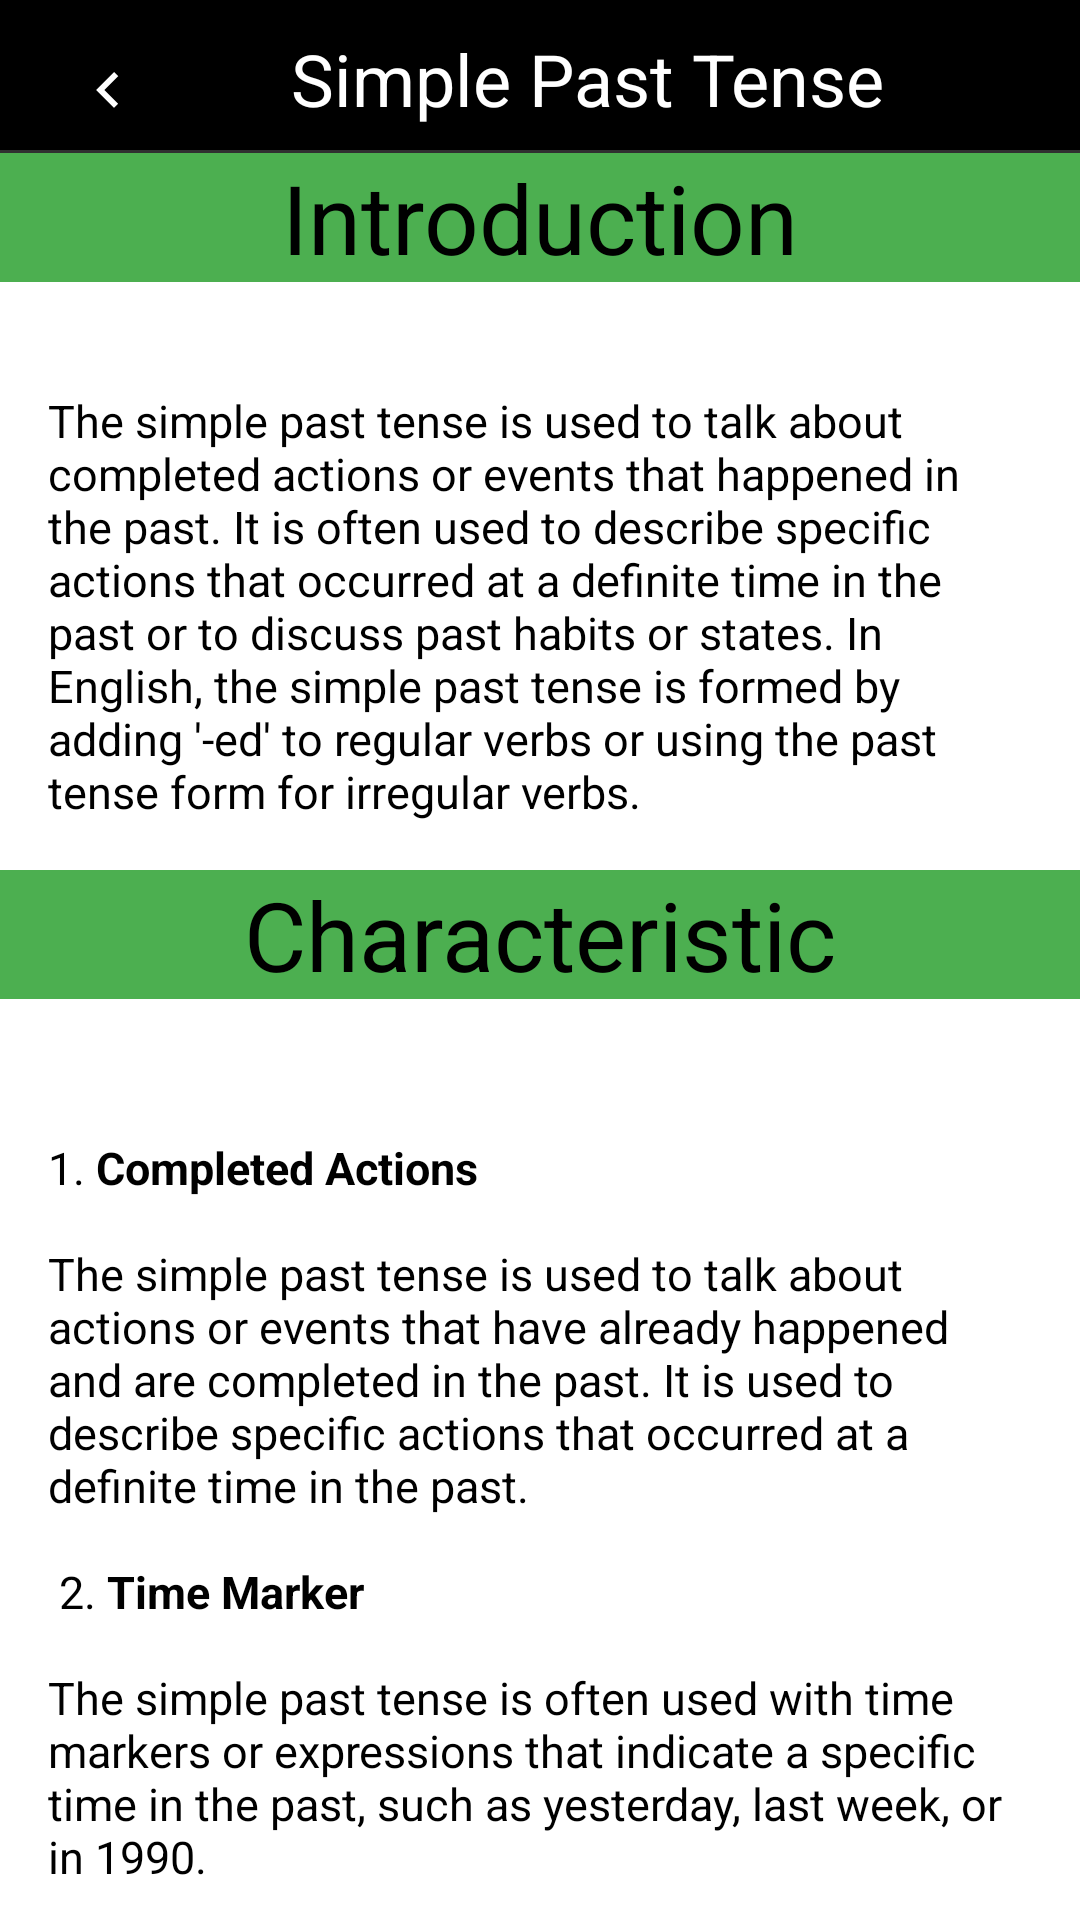

Locate icon controls on the screen. Image size 1080x1920, boxes as (x1, y1, x2, y2).
backbt: (96, 72, 118, 108)
